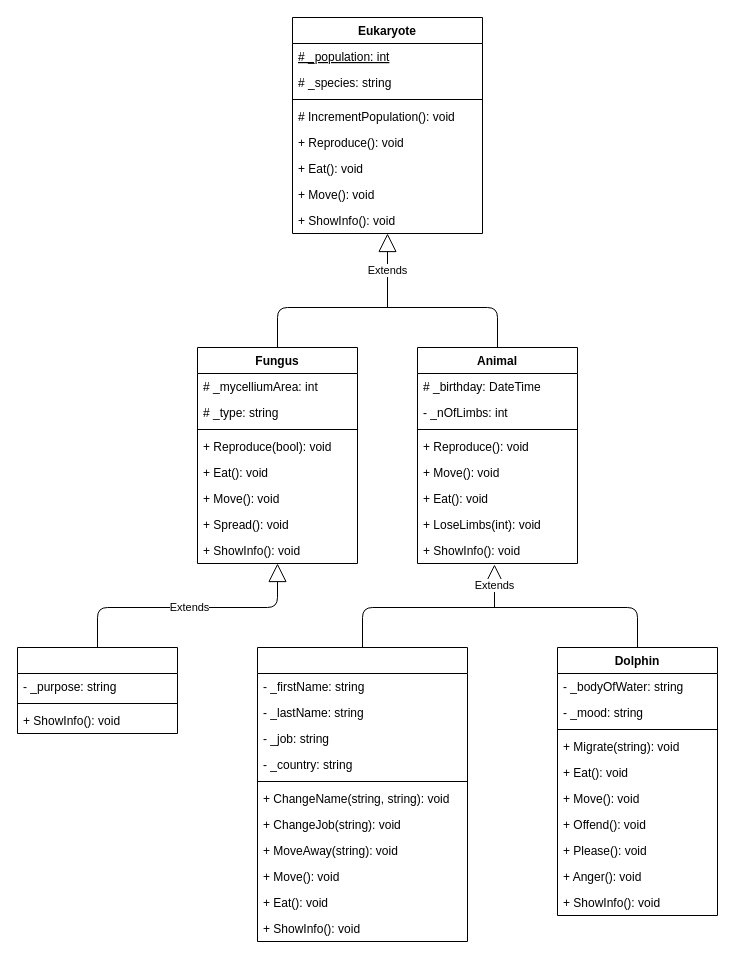
This 735x962 diagram has some shape labels left out. The box of each missing label's shape, as (x1, y1, x2, y2) in pixels:
Amanita: (16, 646, 178, 734)
Human: (256, 646, 468, 942)
